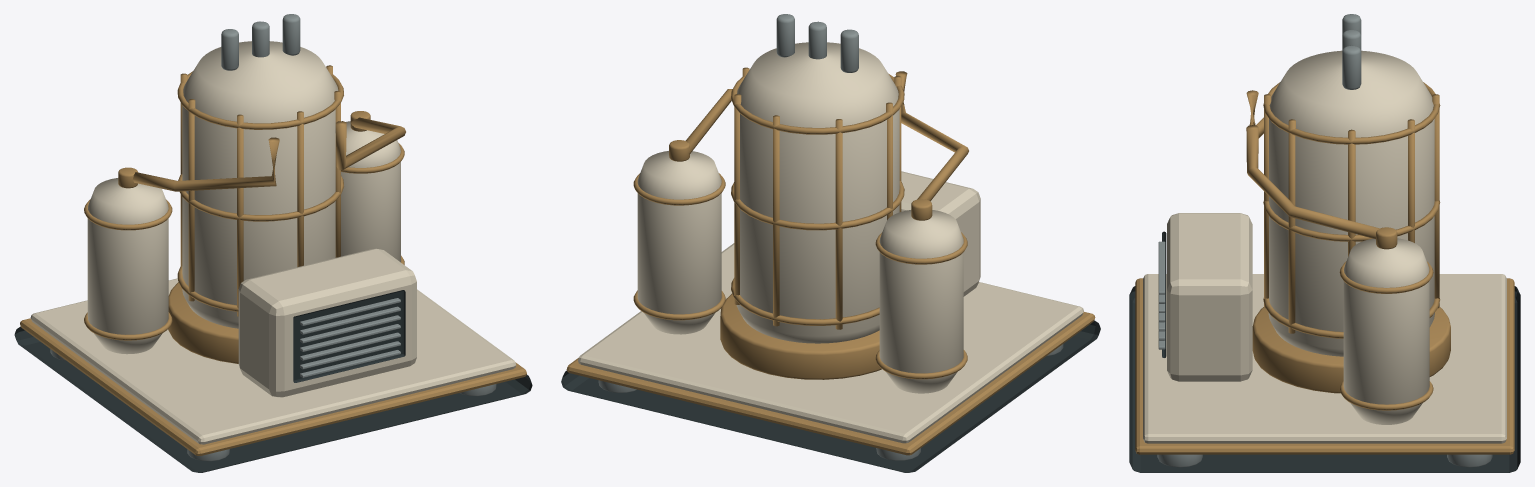
The model's file is moxie-o02.glb.
3 renders of one model, left to right at view 1: azimuth 30°, elevation 25°; view 2: azimuth 150°, elevation 25°; view 3: azimuth 270°, elevation 25°, orthographic. The views are drawn at different scales.
Parts seen in each view (by area): view 1: H01 batch 02 / Ares S02 / ceramic pressure shell, H01 batch 01 / Ares S02 / brushed bronze, H01 batch 00 / Ares S02 / charcoal seals, H01 batch 03 / Ares S02 / titanium struts; view 2: H01 batch 02 / Ares S02 / ceramic pressure shell, H01 batch 01 / Ares S02 / brushed bronze, H01 batch 00 / Ares S02 / charcoal seals, H01 batch 03 / Ares S02 / titanium struts; view 3: H01 batch 02 / Ares S02 / ceramic pressure shell, H01 batch 01 / Ares S02 / brushed bronze, H01 batch 00 / Ares S02 / charcoal seals, H01 batch 03 / Ares S02 / titanium struts.
Part boxes in pixels (left/top/right/bottom): H01 batch 02 / Ares S02 / ceramic pressure shell: left=30, top=41, right=516, bottom=444; H01 batch 01 / Ares S02 / brushed bronze: left=20, top=65, right=526, bottom=455; H01 batch 00 / Ares S02 / charcoal seals: left=14, top=290, right=532, bottom=472; H01 batch 03 / Ares S02 / titanium struts: left=50, top=14, right=496, bottom=461; H01 batch 02 / Ares S02 / ceramic pressure shell: left=578, top=42, right=1083, bottom=443; H01 batch 01 / Ares S02 / brushed bronze: left=566, top=67, right=1095, bottom=455; H01 batch 00 / Ares S02 / charcoal seals: left=561, top=320, right=1100, bottom=472; H01 batch 03 / Ares S02 / titanium struts: left=598, top=14, right=1063, bottom=460; H01 batch 02 / Ares S02 / ceramic pressure shell: left=1143, top=50, right=1506, bottom=443; H01 batch 01 / Ares S02 / brushed bronze: left=1135, top=82, right=1514, bottom=454; H01 batch 00 / Ares S02 / charcoal seals: left=1129, top=231, right=1520, bottom=472; H01 batch 03 / Ares S02 / titanium struts: left=1157, top=14, right=1492, bottom=467.
Bounding box in the file's own units: 1.56 × 1.48 × 1.46.
